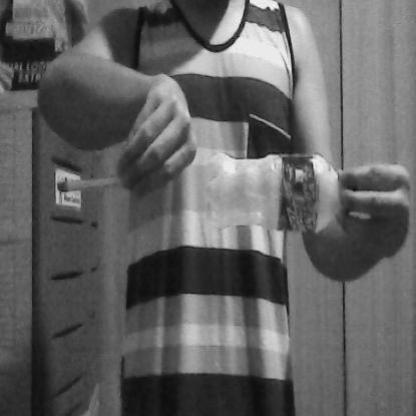Plastic Bottle: (204, 133, 368, 239)
